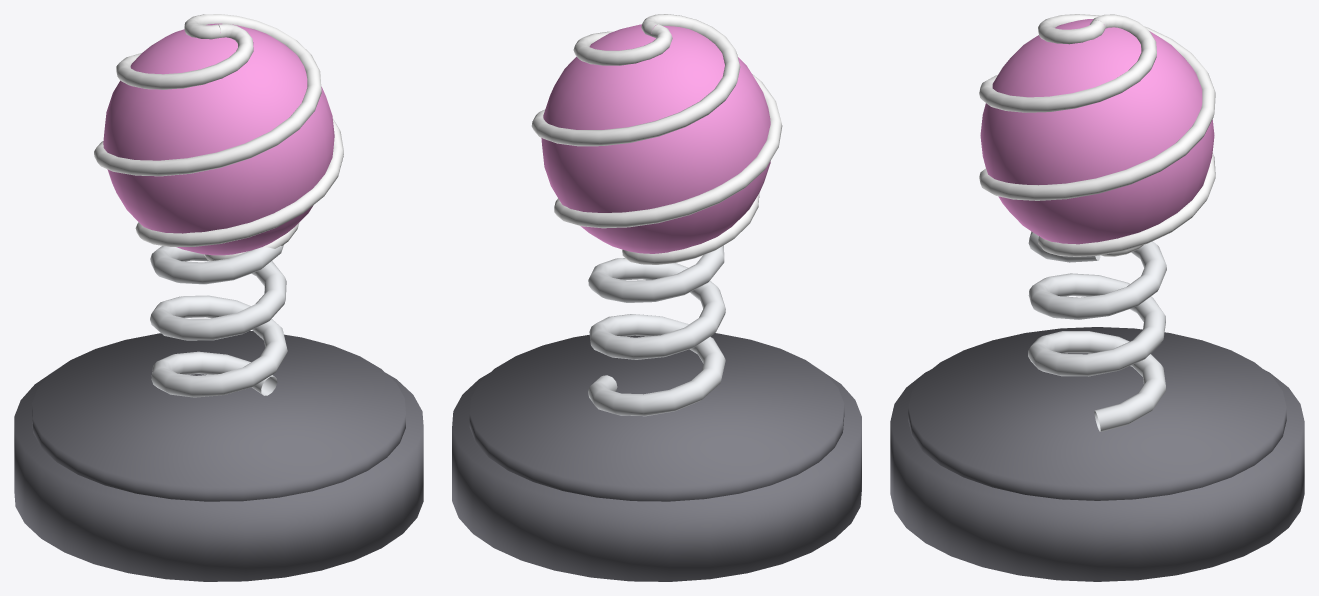
The model's file is Bounce.glb.
The picture shows the model from 3 angles, left to right: view 1: azimuth 30°, elevation 25°; view 2: azimuth 150°, elevation 25°; view 3: azimuth 270°, elevation 25°; orthographic projection.
Visible parts, largest first — view 1: Bounce_rim, Bounce_pedestal, Bounce_ball, Bounce_spring, Bounce_swirl1, Bounce_swirl0; view 2: Bounce_rim, Bounce_pedestal, Bounce_ball, Bounce_spring, Bounce_swirl0, Bounce_swirl1; view 3: Bounce_rim, Bounce_pedestal, Bounce_ball, Bounce_spring, Bounce_swirl1, Bounce_swirl0.
Part boxes in pixels (<box>): Bounce_rim: <box>32,330,405,501</box>; Bounce_pedestal: <box>14,373,423,581</box>; Bounce_ball: <box>103,23,334,255</box>; Bounce_spring: <box>150,245,287,397</box>; Bounce_swirl1: <box>94,14,321,261</box>; Bounce_swirl0: <box>116,24,343,246</box>; Bounce_rim: <box>469,333,844,501</box>; Bounce_pedestal: <box>452,373,861,581</box>; Bounce_ball: <box>541,24,770,253</box>; Bounce_spring: <box>588,245,725,416</box>; Bounce_swirl0: <box>531,14,759,264</box>; Bounce_swirl1: <box>554,24,782,228</box>; Bounce_rim: <box>908,327,1286,500</box>; Bounce_pedestal: <box>890,369,1304,581</box>; Bounce_ball: <box>980,19,1214,244</box>; Bounce_spring: <box>1028,231,1166,431</box>; Bounce_swirl1: <box>979,14,1215,256</box>; Bounce_swirl0: <box>979,14,1215,256</box>.
Bounding box in the file's own units: 0.92 × 1.16 × 0.92.
